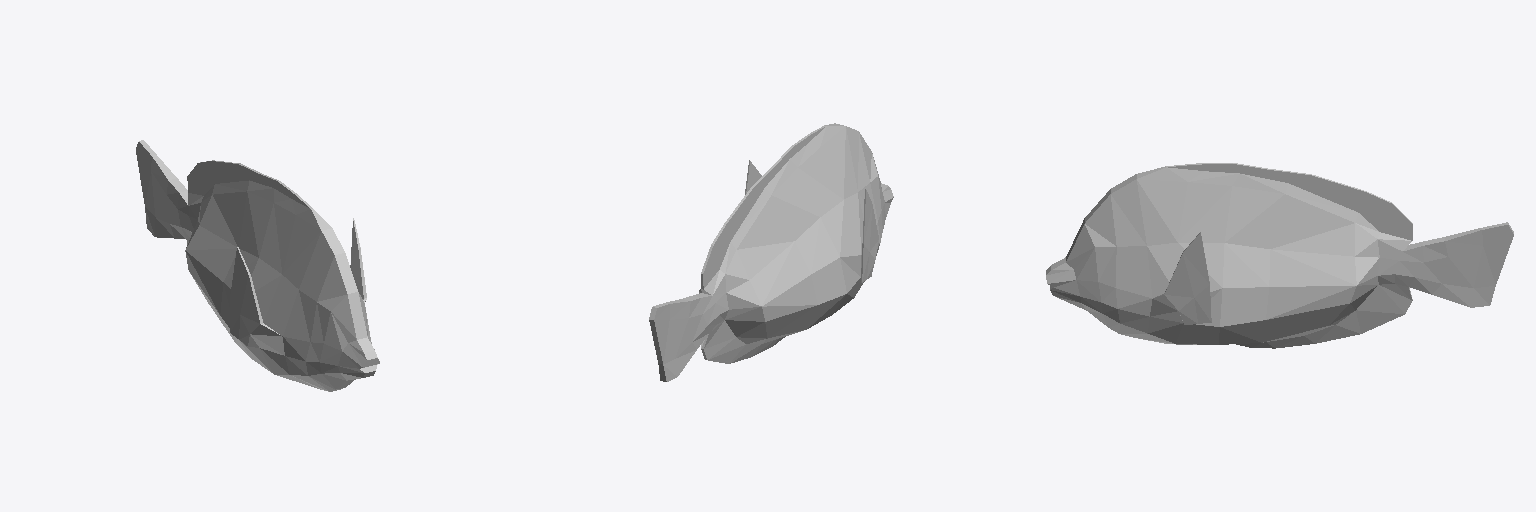
File: fish10.obj
3 views of the same model, side by side, from view 1: azimuth 30°, elevation 25°; view 2: azimuth 150°, elevation 25°; view 3: azimuth 270°, elevation 25° (orthographic).
Visible parts, largest first — view 1: TropicalFish10:TropicalFish10; view 2: TropicalFish10:TropicalFish10; view 3: TropicalFish10:TropicalFish10.
Boxes of the visible parts, x1,y1,x2,y2 form: TropicalFish10:TropicalFish10: [136, 140, 379, 391]; TropicalFish10:TropicalFish10: [649, 123, 893, 381]; TropicalFish10:TropicalFish10: [1046, 163, 1513, 348].
Bounding box in the file's own units: 1.6 × 2.33 × 5.35.